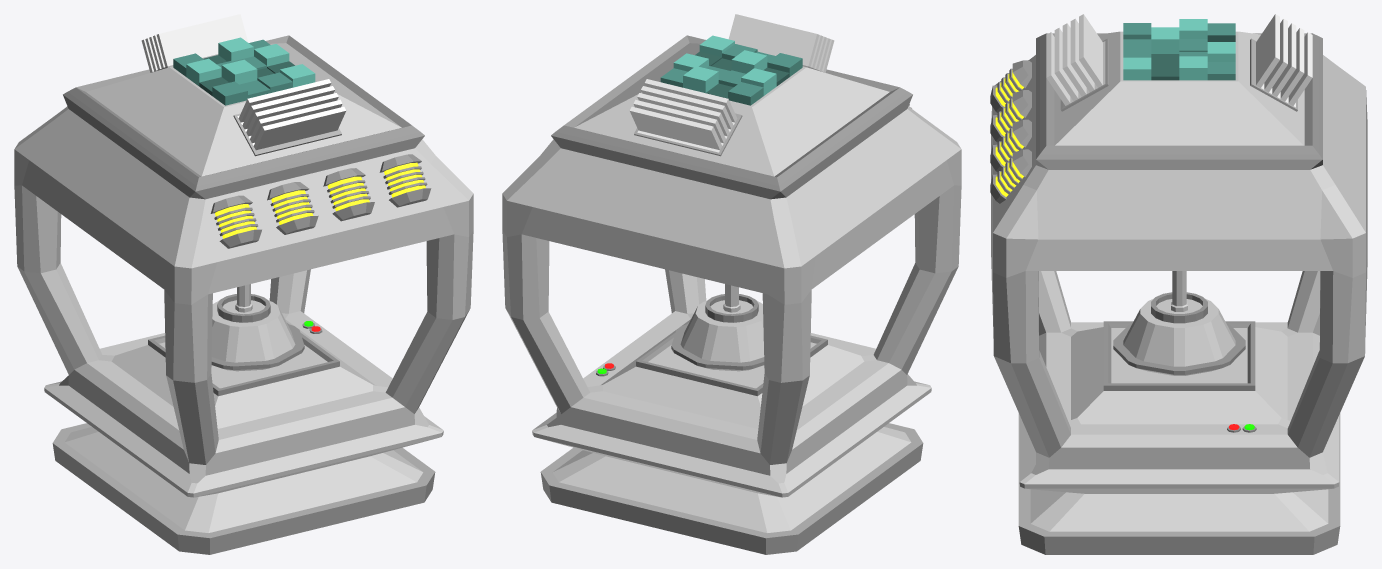
Rendered from press_lvl_1.fbx.
3 views of the same model, side by side, from view 1: azimuth 30°, elevation 25°; view 2: azimuth 150°, elevation 25°; view 3: azimuth 270°, elevation 25° (orthographic). The views are drawn at different scales.
Visible parts, largest first — view 1: press_main_lvl_1, press_energy_cells_lvl_1, press_cosmo_panel_lvl_1, press_heater_2_lvl_1, press_presser_lvl_1, press_heater_1_lvl_1; view 2: press_main_lvl_1, press_cosmo_panel_lvl_1, press_heater_1_lvl_1, press_presser_lvl_1, press_heater_2_lvl_1; view 3: press_main_lvl_1, press_presser_lvl_1, press_cosmo_panel_lvl_1, press_energy_cells_lvl_1, press_heater_2_lvl_1, press_heater_1_lvl_1, press_pipe_lvl_1.
Boxes of the visible parts, bbox=[...] form: press_main_lvl_1: bbox=[14, 35, 473, 554]; press_energy_cells_lvl_1: bbox=[210, 154, 431, 248]; press_cosmo_panel_lvl_1: bbox=[173, 37, 315, 105]; press_heater_2_lvl_1: bbox=[233, 79, 346, 156]; press_presser_lvl_1: bbox=[211, 294, 304, 371]; press_heater_1_lvl_1: bbox=[141, 14, 248, 72]; press_main_lvl_1: bbox=[502, 35, 961, 554]; press_cosmo_panel_lvl_1: bbox=[660, 35, 802, 105]; press_heater_1_lvl_1: bbox=[629, 79, 742, 156]; press_presser_lvl_1: bbox=[671, 294, 764, 371]; press_heater_2_lvl_1: bbox=[728, 14, 834, 72]; press_main_lvl_1: bbox=[991, 31, 1367, 554]; press_presser_lvl_1: bbox=[1113, 292, 1245, 375]; press_cosmo_panel_lvl_1: bbox=[1123, 19, 1235, 80]; press_energy_cells_lvl_1: bbox=[990, 60, 1031, 203]; press_heater_2_lvl_1: bbox=[1046, 14, 1108, 111]; press_heater_1_lvl_1: bbox=[1250, 14, 1312, 111]; press_pipe_lvl_1: bbox=[1171, 271, 1187, 311].
Size of the model in its own units: 202 by 270 by 202.
